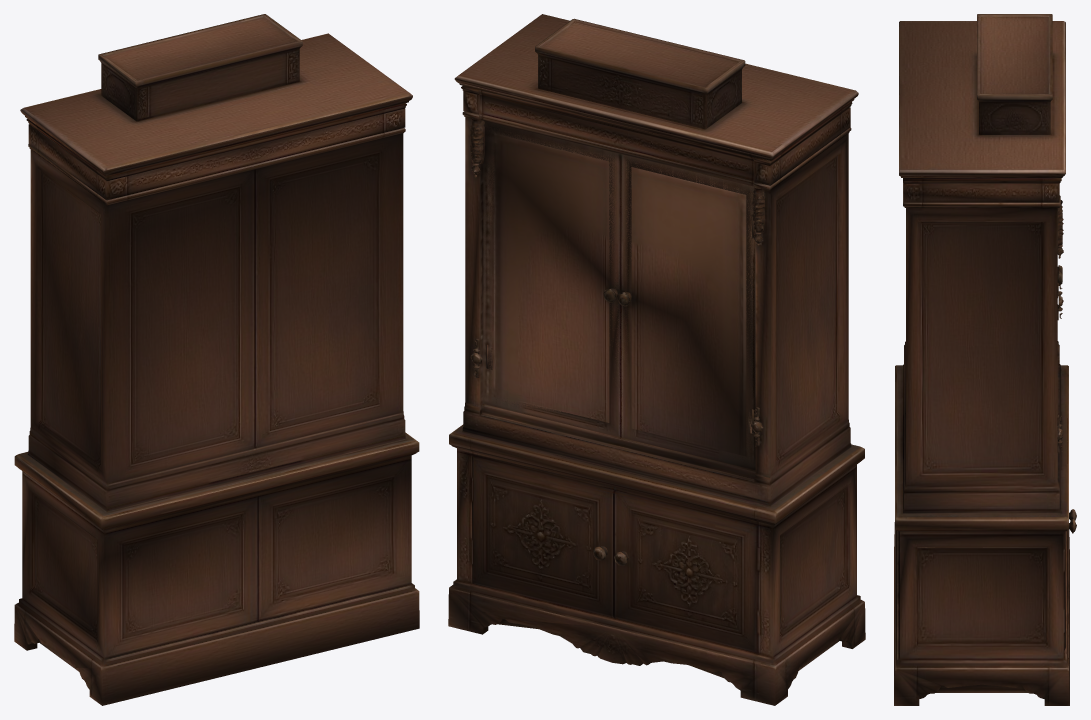
File: furniture-shrine-cabinet.glb
3 renders of one model, left to right at view 1: azimuth 30°, elevation 25°; view 2: azimuth 150°, elevation 25°; view 3: azimuth 270°, elevation 25°, orthographic. The views are drawn at different scales.
Visible parts, largest first — view 1: tripo_node_f59c8d43-edd4-4863-91eb-4e3af13b2d05; view 2: tripo_node_f59c8d43-edd4-4863-91eb-4e3af13b2d05; view 3: tripo_node_f59c8d43-edd4-4863-91eb-4e3af13b2d05.
Boxes of the visible parts, x1,y1,x2,y2 form: tripo_node_f59c8d43-edd4-4863-91eb-4e3af13b2d05: (14, 14, 419, 705); tripo_node_f59c8d43-edd4-4863-91eb-4e3af13b2d05: (448, 14, 865, 705); tripo_node_f59c8d43-edd4-4863-91eb-4e3af13b2d05: (894, 14, 1076, 705).
Size of the model in its own units: 1.3 by 2.25 by 0.65.
Materials: 1 (1 with a texture image).
